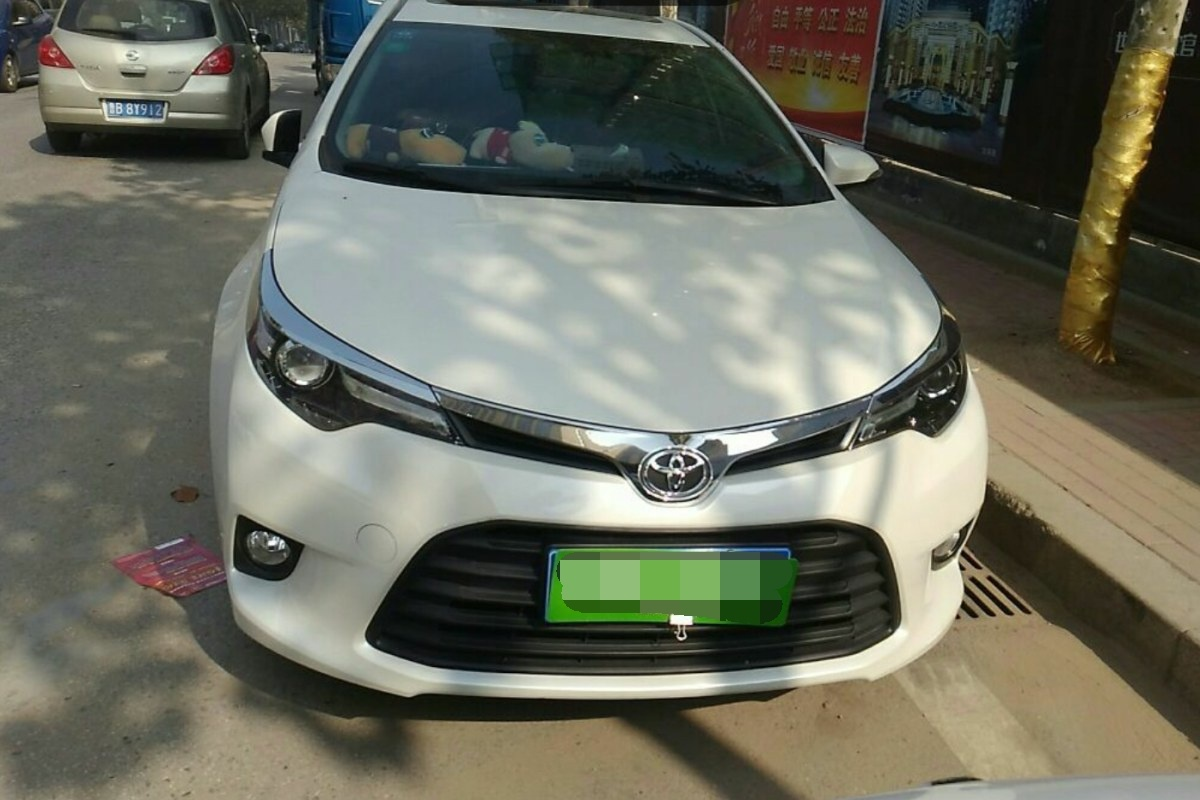family sedan: (225, 19, 979, 722)
